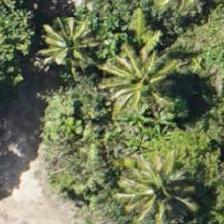coconut_tree: (90, 33, 180, 123), (11, 0, 101, 82)
